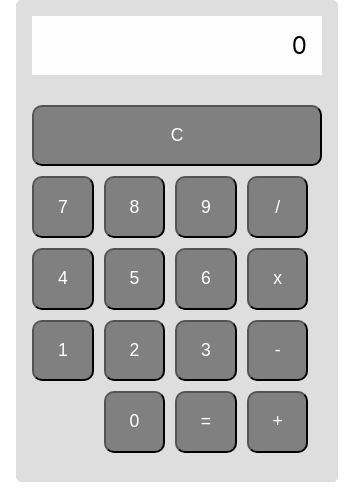
Test: Calculator › should be able to subtract
Click the button with test id "number7" at (63, 207), box x1=32 y1=176 x2=94 y2=238
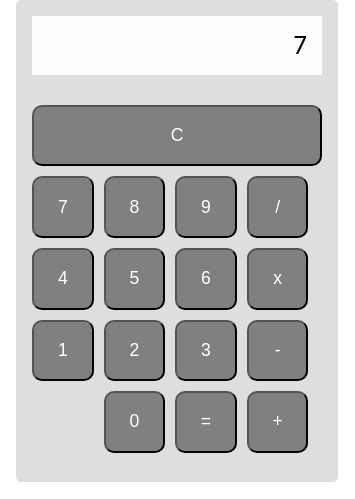
Click the button with test id "subtract" at (278, 350), box x1=247 y1=320 x2=308 y2=381
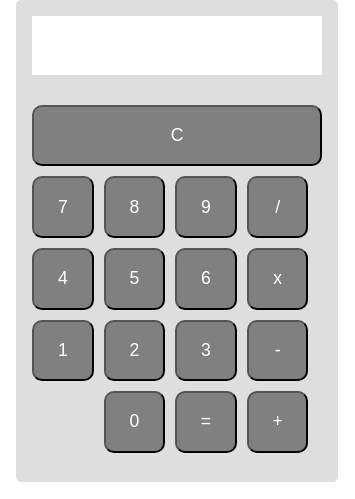
Click the button with test id "number4" at (63, 279), box x1=32 y1=248 x2=94 y2=310
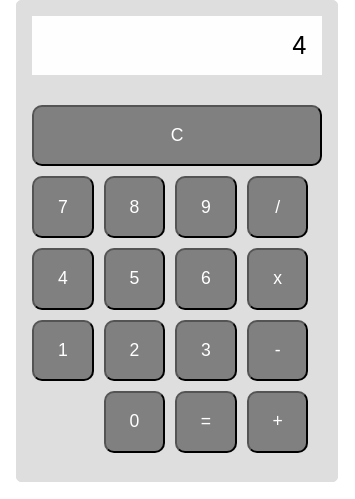
Click the button with test id "equals" at (206, 422), box x1=175 y1=391 x2=237 y2=453
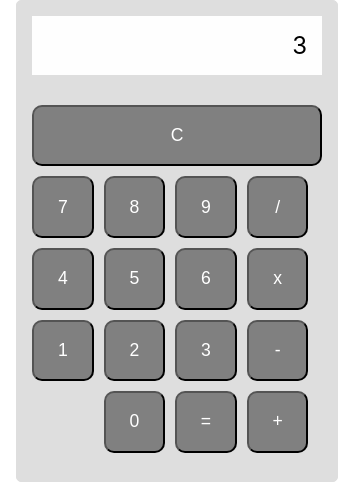
Result: the text with test id "running-total" reads "3" at x1=292 y1=31 x2=307 y2=60
